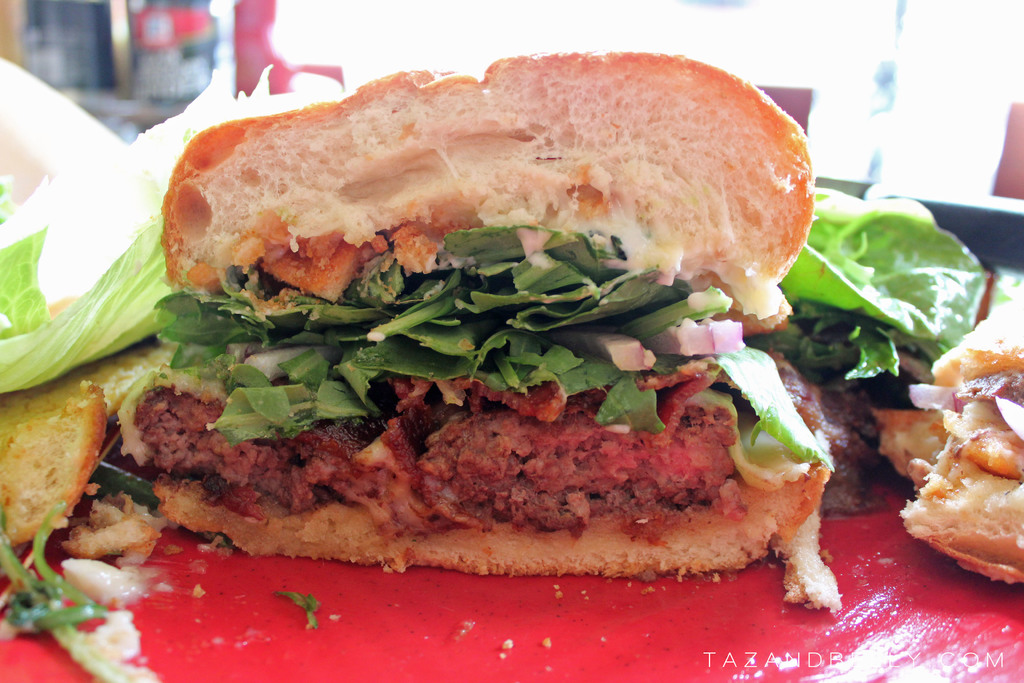Hamburger: (115, 51, 844, 613)
